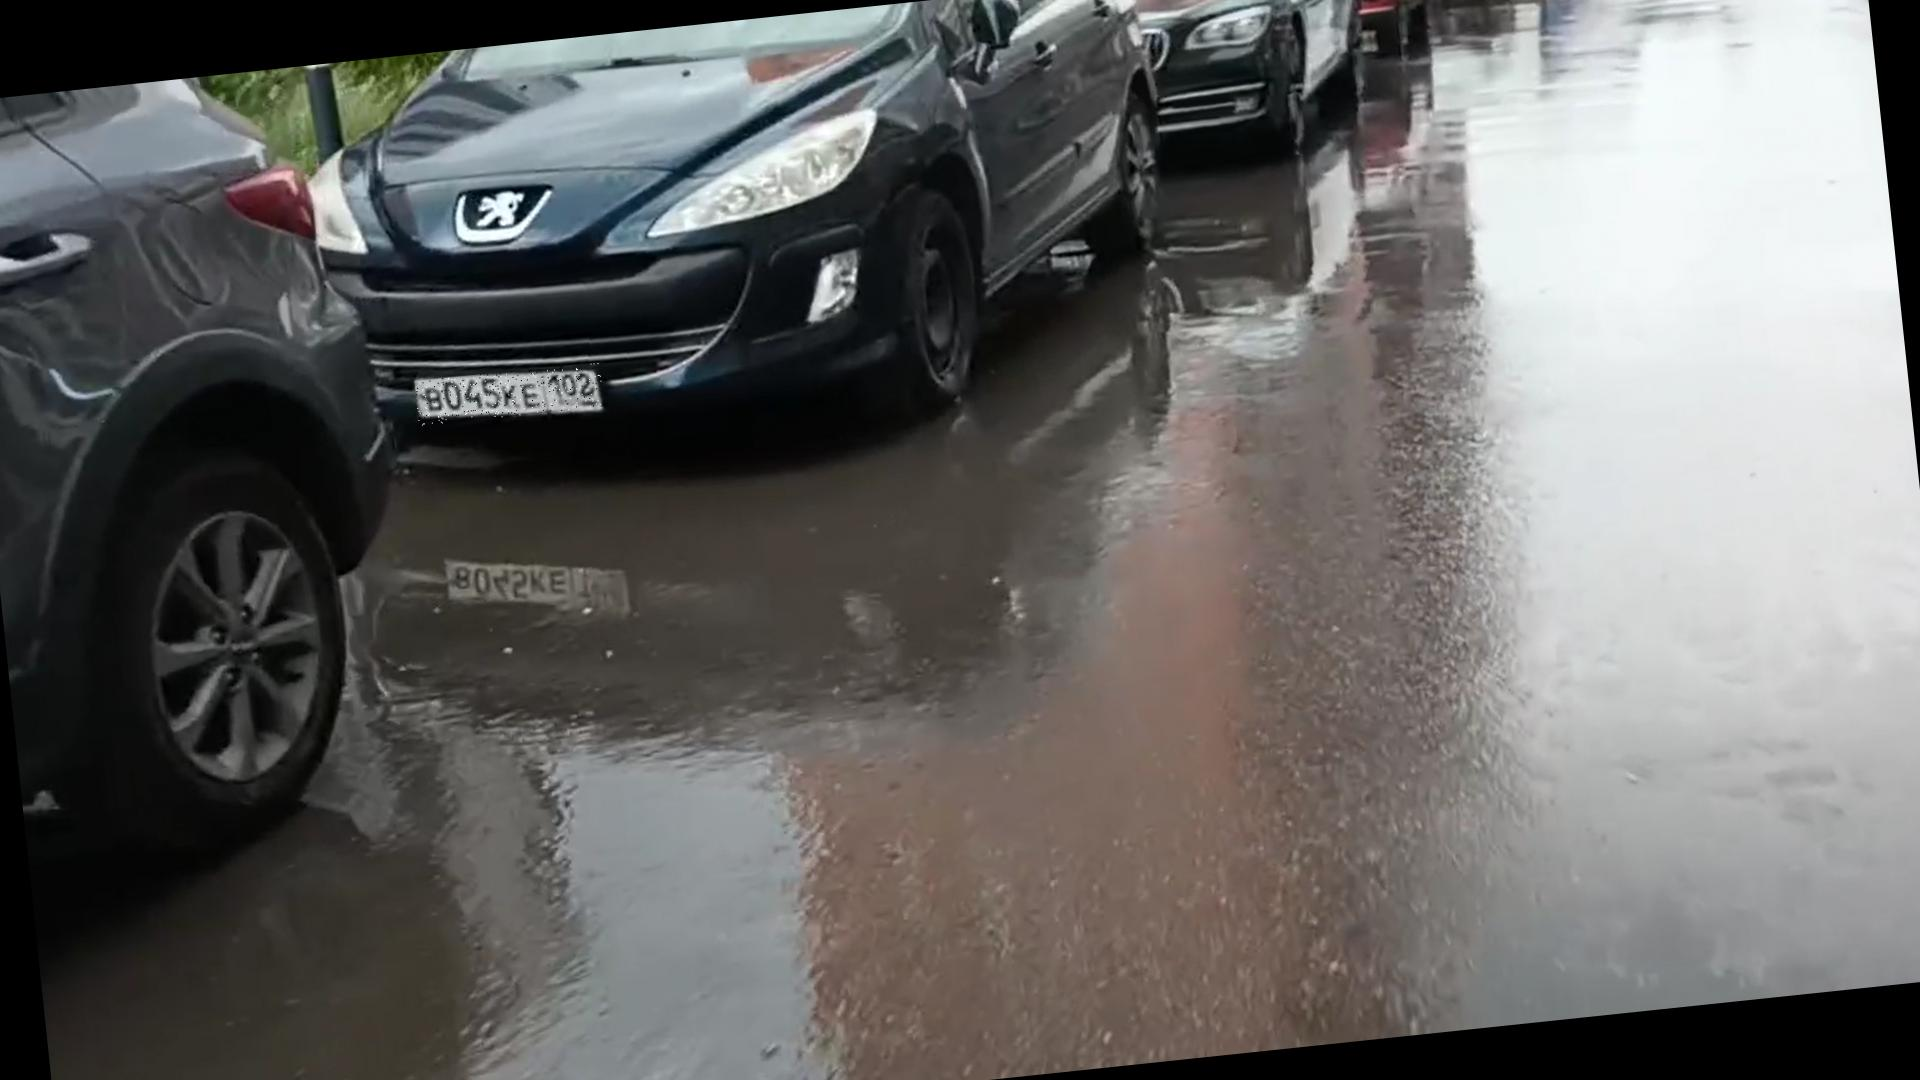plate: (416, 363, 608, 427)
